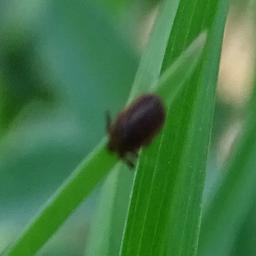Rhipicephalus sanguineus: (103, 93, 164, 170)
